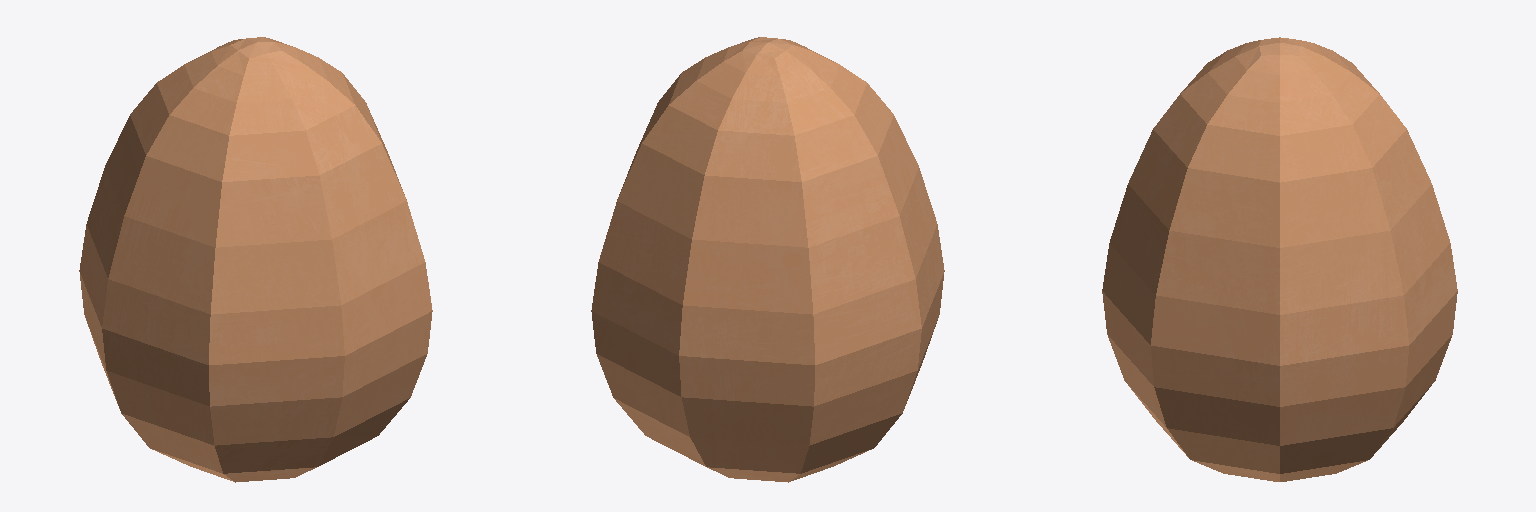
The picture shows the model from 3 angles: view 1: azimuth 30°, elevation 25°; view 2: azimuth 150°, elevation 25°; view 3: azimuth 270°, elevation 25°; orthographic projection.
Parts seen in each view (by area): view 1: egg_Cube.001; view 2: egg_Cube.001; view 3: egg_Cube.001.
Part boxes in pixels (bbox=[...]): egg_Cube.001: bbox=[79, 37, 432, 482]; egg_Cube.001: bbox=[591, 37, 944, 482]; egg_Cube.001: bbox=[1102, 37, 1457, 481].
Size of the model in its own units: 0.3085 by 0.4086 by 0.3085.
Materials: 1 (1 with a texture image).